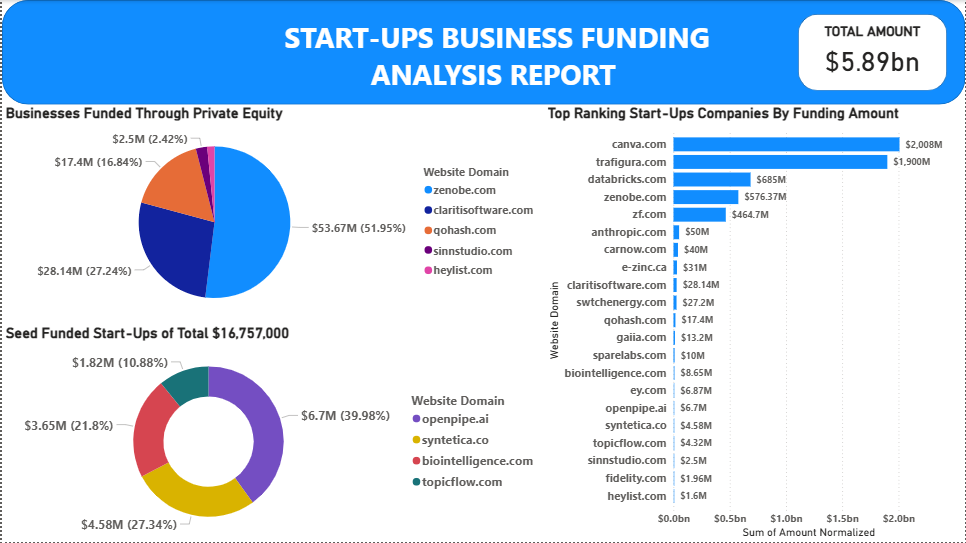

What the dashboard file says about the page in this screenshot:
{"tool":"powerbi","page":{"name":"Start-Up Report","canvas":[1280,720],"ordinal":0},"visuals":[{"type":"pieChart","title":"Businesses Funded Through Private Equity","fields":{"Category":["Cleaned_Business_Funding_Dataset.Website Domain"],"Y":["Sum(Cleaned_Business_Funding_Dataset.Amount Normalized)"]},"box":[0,138.1,720.6,292.1],"z":0},{"type":"donutChart","title":"Seed Funded Start-Ups of Total $16,757,000","fields":{"Category":["Cleaned_Business_Funding_Dataset.Website Domain"],"Y":["Sum(Cleaned_Business_Funding_Dataset.Amount Normalized)"]},"box":[0,430.2,720.6,290.5],"z":1000},{"type":"clusteredBarChart","title":"Top Ranking Start-Ups Companies By Funding Amount","fields":{"Category":["Cleaned_Business_Funding_Dataset.Website Domain"],"Y":["Sum(Cleaned_Business_Funding_Dataset.Amount Normalized)"]},"box":[720.6,138.1,558.7,582.5],"z":2000},{"type":"shape","box":[0,0,1279.6,138.8],"z":3000},{"type":"textbox","box":[314.3,18.4,685.7,120.4],"z":4000},{"type":"shape","box":[1057.1,18.4,198,102],"z":5000},{"type":"card","title":"TOTAL AMOUNT","fields":{"Values":["Sum(Cleaned_Business_Funding_Dataset.Amount Normalized)"]},"box":[1065.3,30.6,181.6,75.5],"z":6000}]}

Visuals, with their boxes in screenshot pixels (x1, y1, x2, y2), scaled from the page's 1280x720 canvas onto the 966x543 screenshot:
"Businesses Funded Through Private Equity" pieChart: [0, 104, 544, 324]
"Seed Funded Start-Ups of Total $16,757,000" donutChart: [0, 324, 544, 542]
"Top Ranking Start-Ups Companies By Funding Amount" clusteredBarChart: [544, 104, 965, 542]
shape: [0, 0, 965, 105]
textbox: [237, 14, 755, 105]
shape: [798, 14, 947, 91]
"TOTAL AMOUNT" card: [804, 23, 941, 80]
